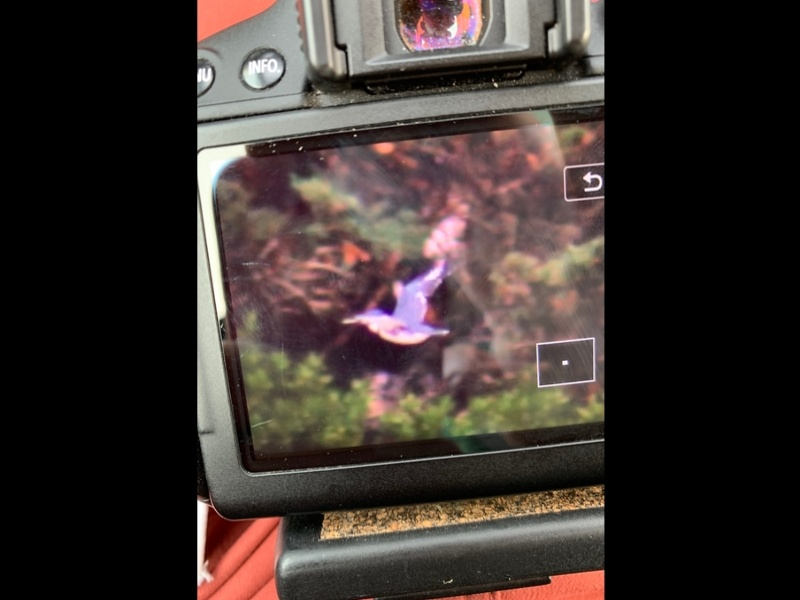kingfisher: (341, 251, 462, 348)
